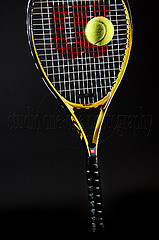tennis ball: (84, 16, 115, 46)
